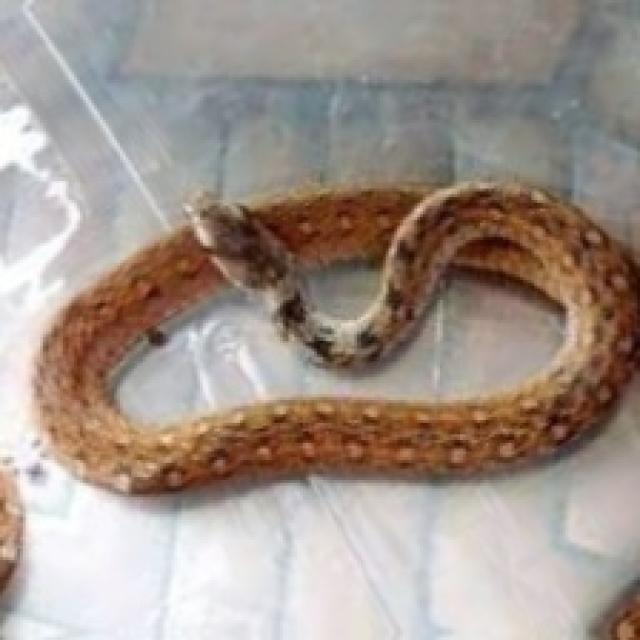boies keelback: (34, 183, 637, 491)
